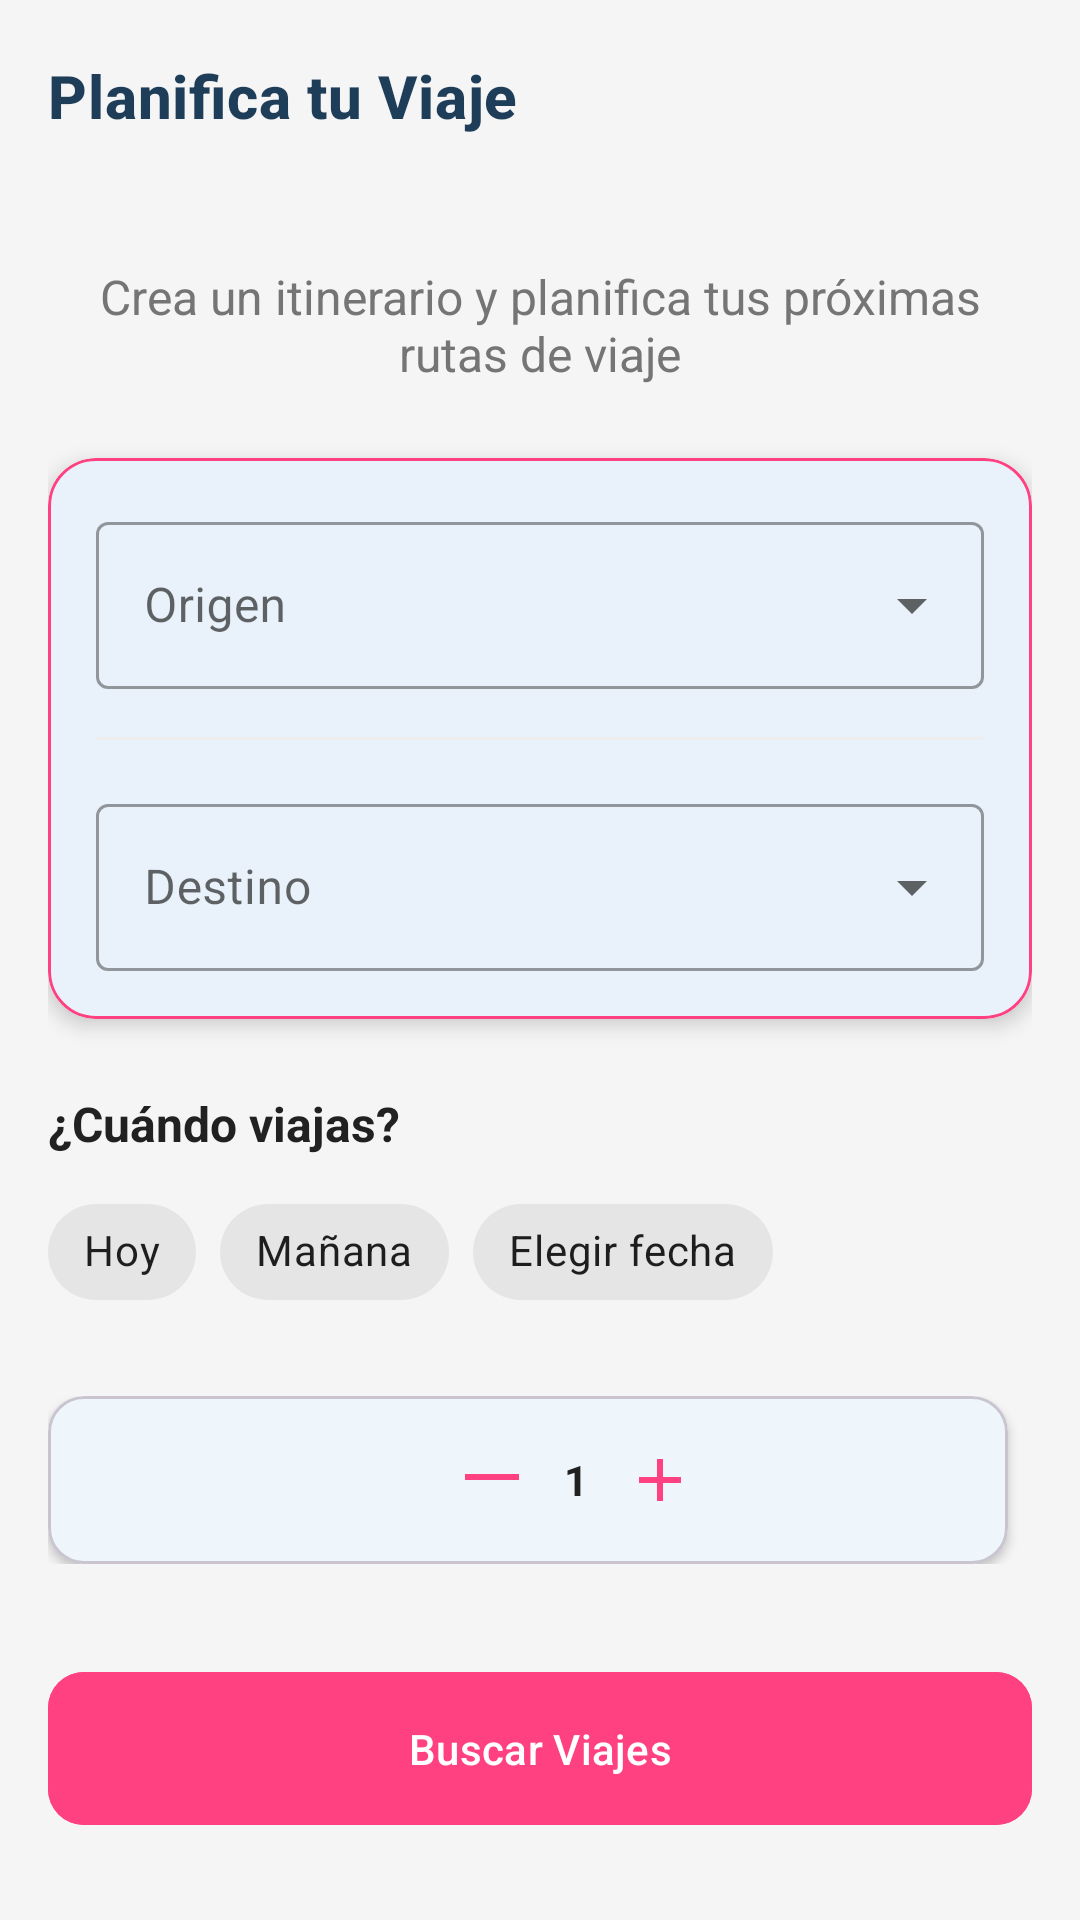

Icons on this 1080w x 1920h Android screen, each with its box as (x1, y1, x2, y2):
plus: (639, 1459, 681, 1501)
